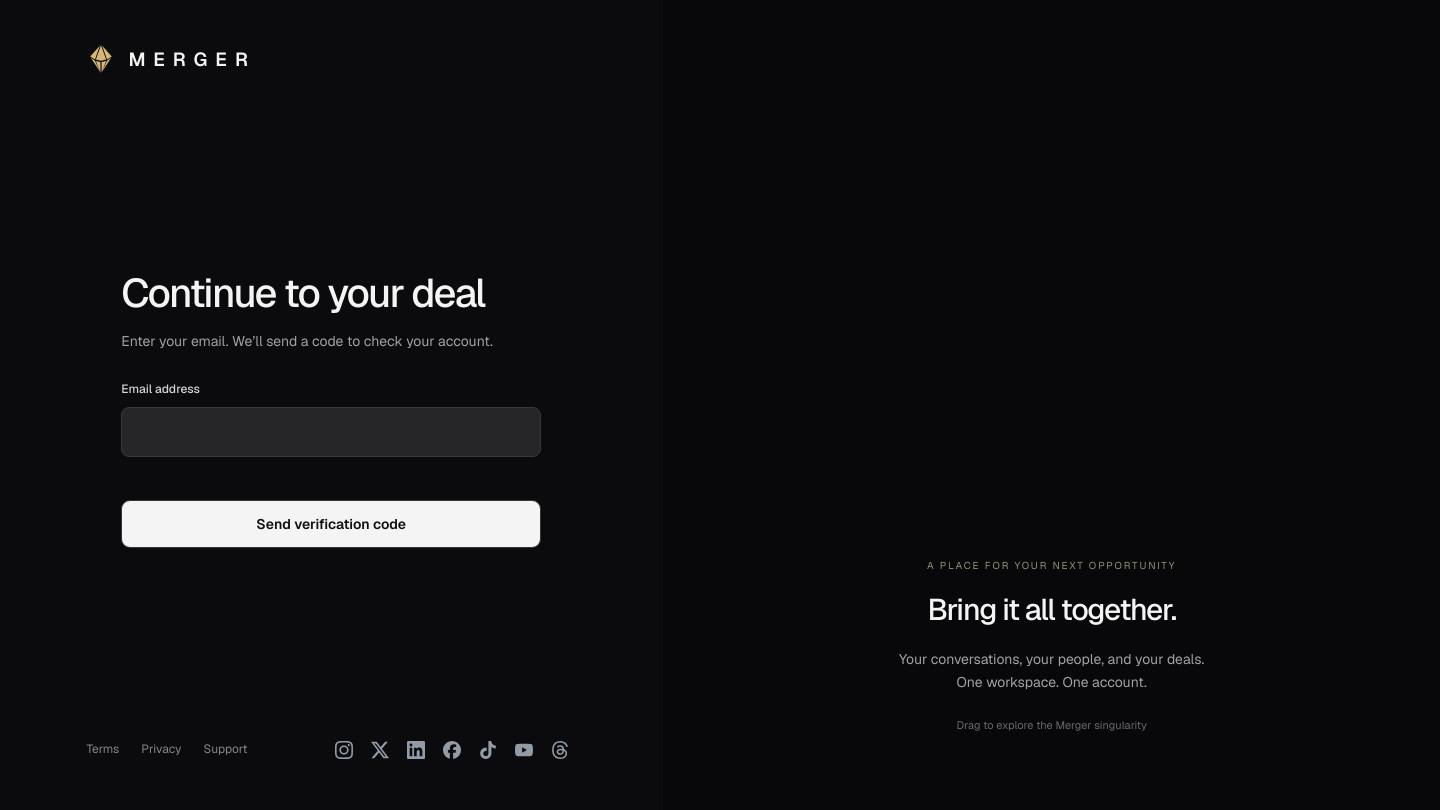
Scenario: invitation account routing › advances through six boxes, identifies missing digits and accepts a complete paste from any box
Later steps or results of the test are not shown.
In the field labelled "Email address": (331, 432) [121, 406, 541, 457], type "returning@example.com"
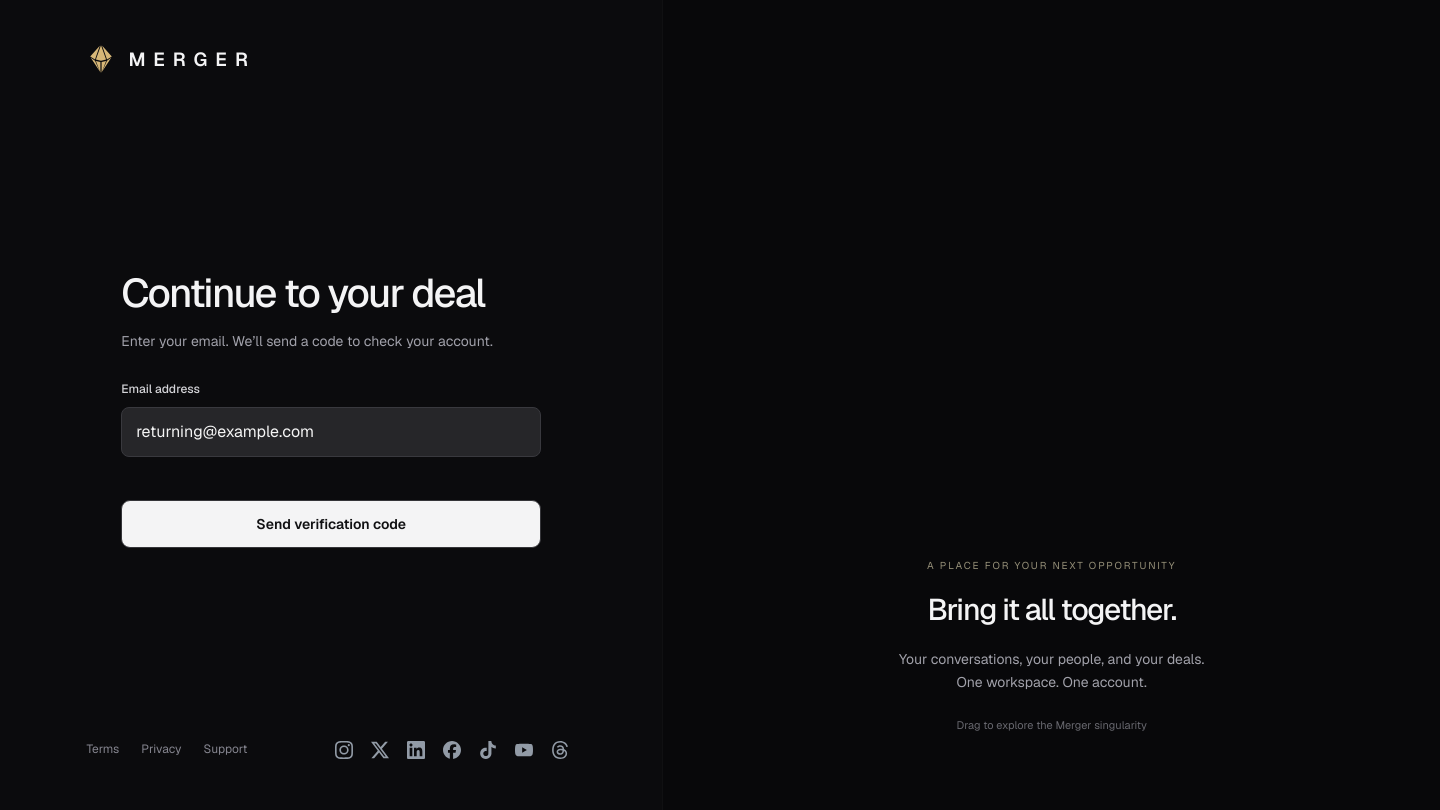
Click the button "Send verification code": (331, 524) [121, 500, 541, 548]
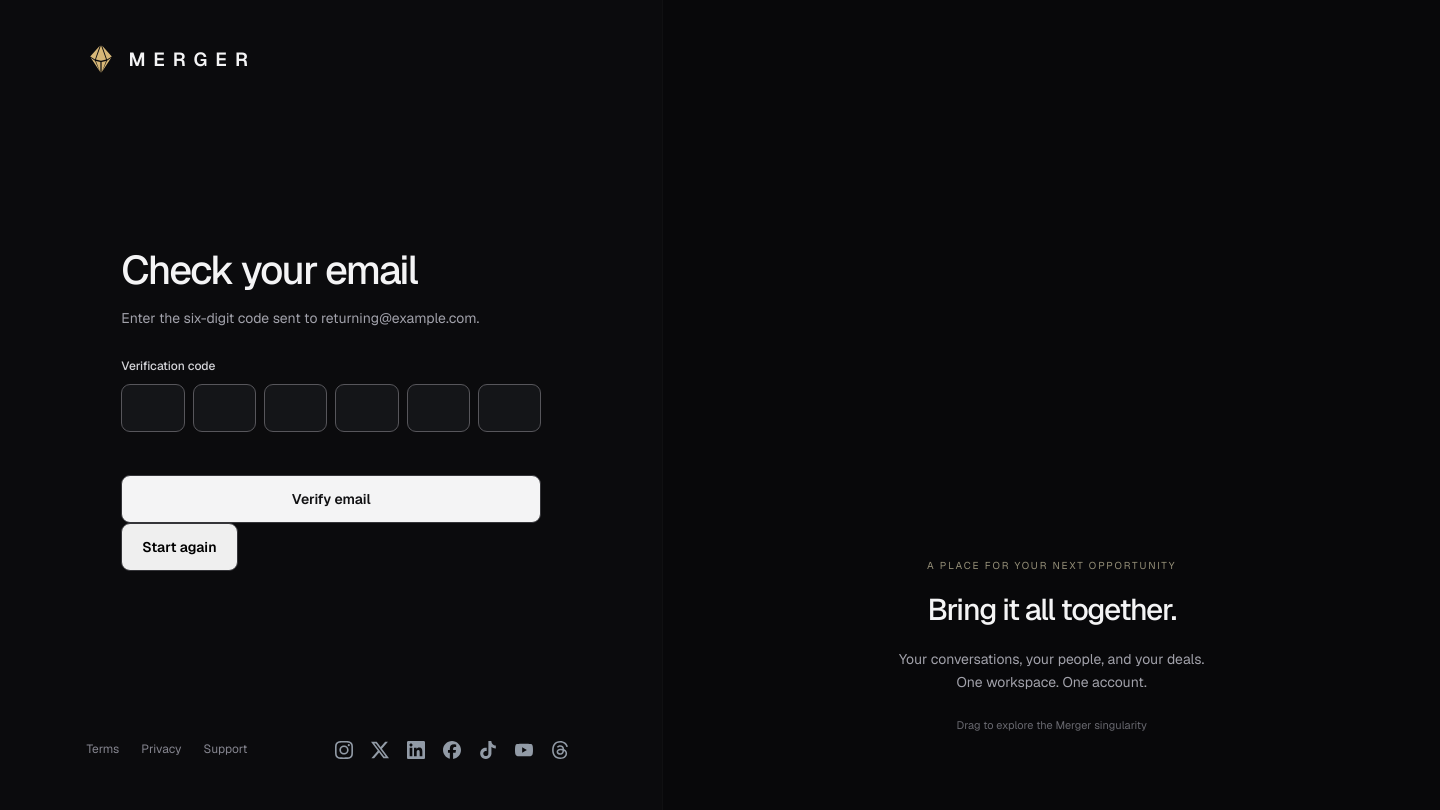
Press 0 in the field named "Digit 1 of 6", box [121, 384, 184, 432]
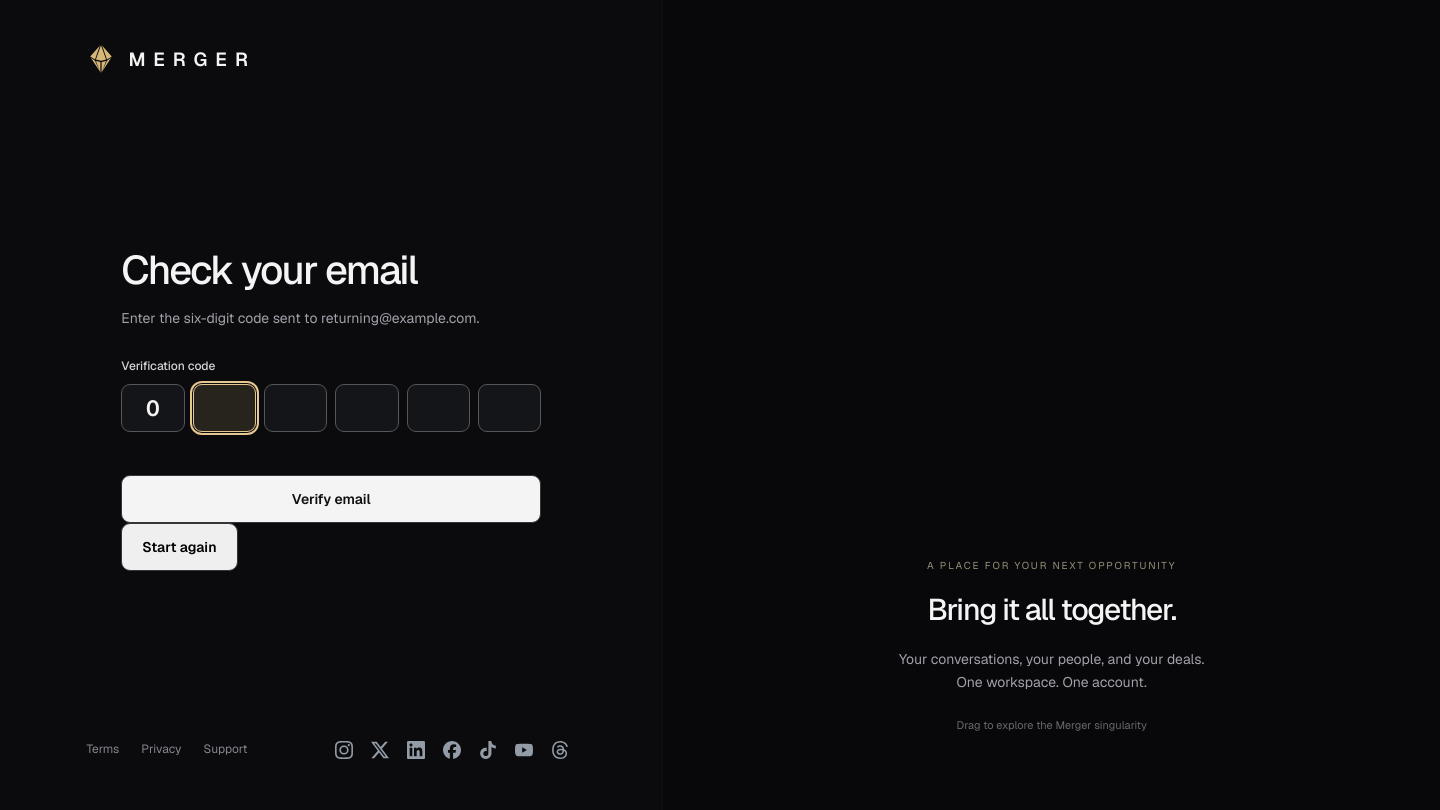
Press Backspace in the field named "Digit 2 of 6", box [192, 384, 256, 432]
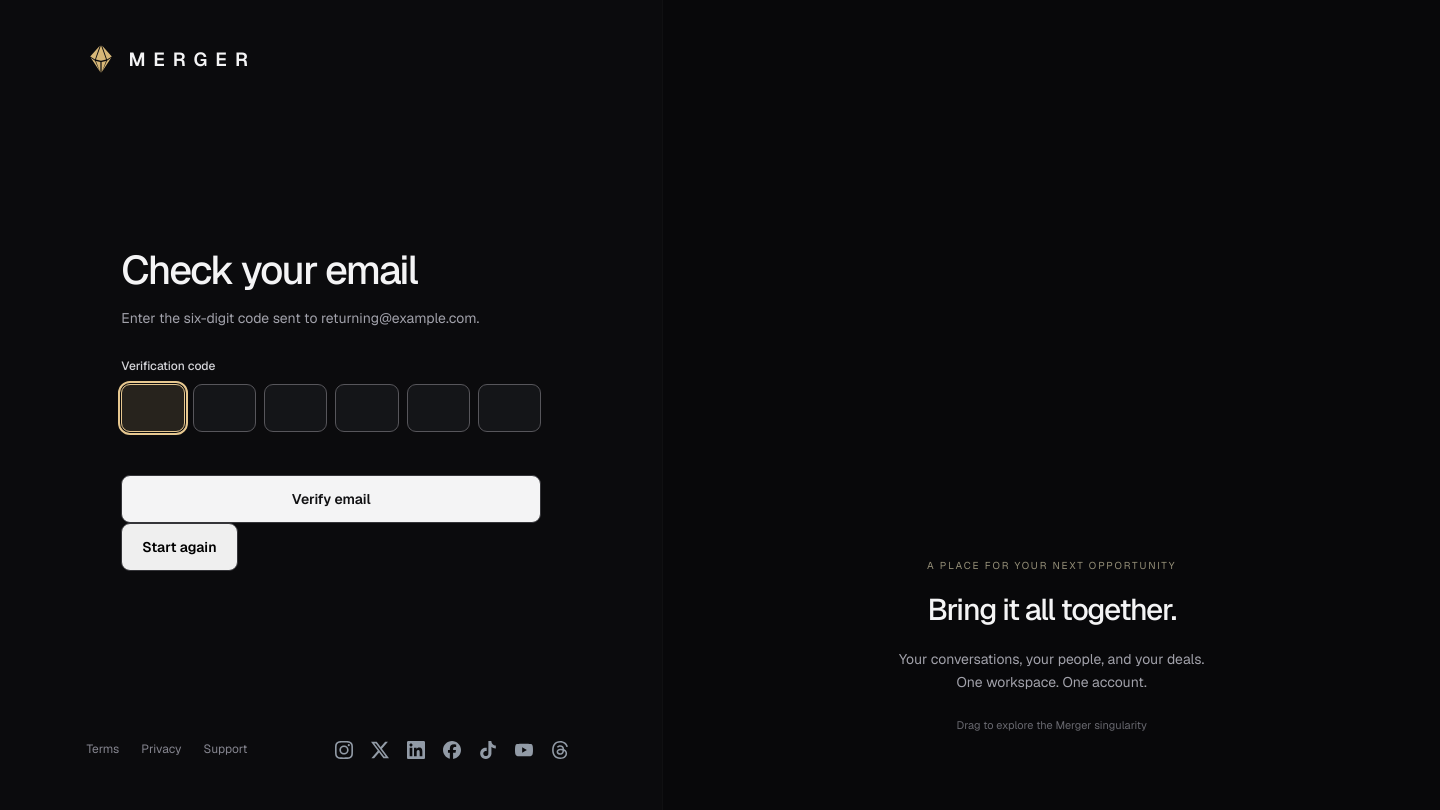
expect the field named "Digit 1 of 6" is empty: met, box [121, 384, 184, 432]
